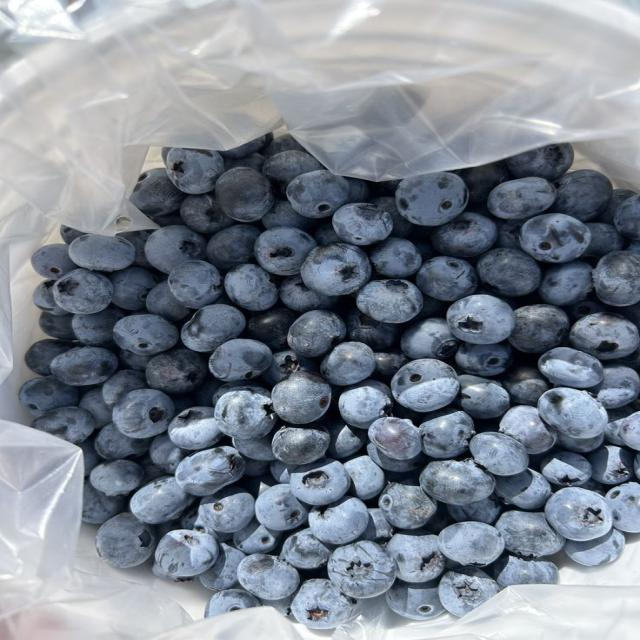blueberry: (327, 541, 395, 598), (395, 173, 468, 226), (300, 243, 371, 295), (391, 359, 459, 412), (545, 487, 613, 540), (538, 387, 607, 437), (520, 213, 590, 262), (569, 312, 639, 360), (175, 447, 244, 495), (96, 513, 156, 568), (420, 460, 494, 504), (281, 459, 351, 505), (447, 295, 514, 343), (215, 168, 274, 222), (386, 530, 446, 583), (496, 511, 565, 557), (291, 579, 354, 629), (272, 371, 331, 424), (476, 248, 541, 296), (180, 305, 246, 352), (431, 212, 498, 258), (215, 389, 276, 439), (554, 170, 613, 221), (130, 477, 195, 523), (145, 225, 206, 274), (508, 305, 570, 353), (254, 228, 317, 275), (155, 530, 219, 576), (439, 567, 499, 616), (114, 389, 174, 438), (287, 170, 349, 217), (438, 522, 504, 566), (487, 177, 555, 219), (357, 280, 422, 323), (416, 256, 478, 301), (309, 497, 368, 544), (287, 310, 346, 357), (238, 554, 299, 599), (146, 349, 206, 394), (114, 314, 178, 356), (500, 406, 556, 454), (262, 151, 323, 195), (166, 148, 224, 194), (209, 339, 272, 381), (339, 380, 393, 429), (167, 261, 223, 308), (51, 347, 118, 386), (54, 269, 113, 313), (420, 412, 475, 459), (130, 168, 185, 215), (379, 483, 435, 529), (539, 348, 603, 388), (68, 234, 135, 272), (469, 432, 528, 475), (199, 487, 254, 533), (507, 143, 573, 181), (225, 264, 278, 311), (593, 252, 639, 306), (333, 203, 392, 245), (538, 261, 593, 305), (255, 485, 307, 531), (207, 224, 259, 270), (401, 318, 459, 359), (169, 406, 223, 450), (272, 424, 329, 465), (32, 407, 95, 444), (320, 342, 374, 385), (496, 468, 551, 510), (385, 581, 444, 620), (345, 309, 401, 350), (180, 193, 235, 234), (458, 375, 510, 418), (458, 161, 510, 204), (368, 417, 421, 459), (565, 529, 625, 566), (199, 543, 245, 591), (367, 443, 426, 480), (280, 275, 337, 313), (72, 307, 125, 347), (94, 423, 152, 459), (369, 237, 421, 277), (592, 365, 639, 409), (247, 308, 296, 350), (110, 267, 157, 310), (494, 556, 559, 587), (281, 529, 331, 569), (82, 479, 125, 524), (455, 343, 513, 376), (502, 366, 549, 406), (263, 350, 318, 384), (90, 460, 143, 495), (344, 456, 386, 500), (540, 451, 592, 486), (370, 196, 413, 238), (25, 339, 73, 376), (203, 379, 266, 407), (588, 445, 633, 484), (146, 281, 189, 321), (102, 370, 146, 409), (261, 201, 315, 232), (447, 494, 502, 524), (606, 482, 639, 532), (31, 244, 77, 279), (233, 520, 281, 553), (326, 420, 366, 459), (149, 434, 187, 473), (583, 223, 624, 259), (595, 189, 637, 224), (605, 407, 639, 450), (117, 229, 154, 268), (233, 434, 275, 467), (219, 134, 272, 159), (79, 387, 111, 428), (358, 509, 394, 544), (33, 280, 68, 315), (259, 460, 297, 492), (567, 296, 612, 322), (374, 348, 408, 382), (614, 196, 639, 240), (261, 134, 306, 158), (39, 312, 75, 340), (557, 432, 604, 453), (78, 438, 102, 478), (494, 220, 523, 249), (225, 153, 265, 171), (346, 177, 370, 202), (314, 222, 339, 245), (60, 225, 85, 244)
